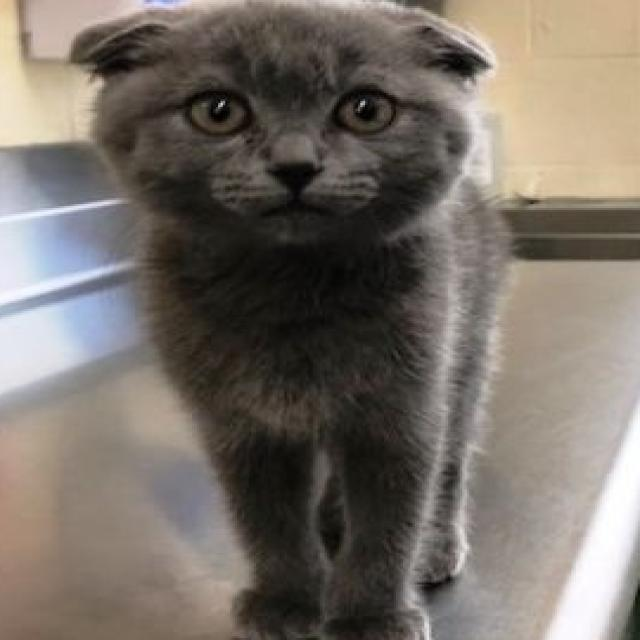Scottish Fold: (61, 0, 522, 640)
